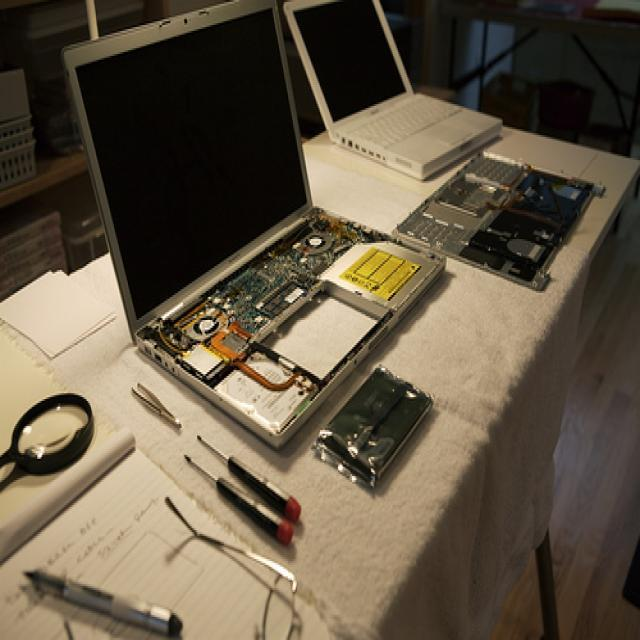screwdriver: (182, 451, 299, 554), (192, 428, 307, 528)
